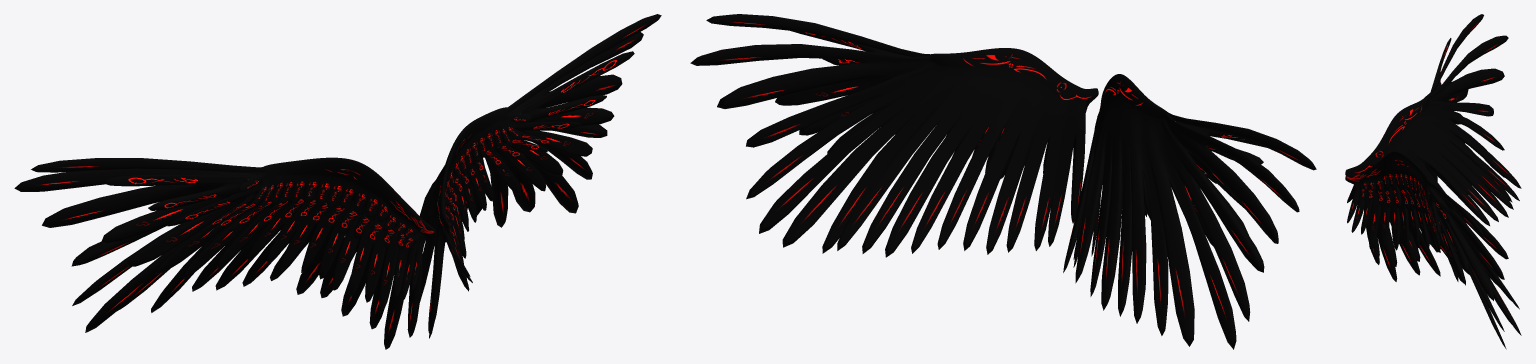
The model's file is wings.glb.
3 renders of one model, left to right at view 1: azimuth 30°, elevation 25°; view 2: azimuth 150°, elevation 25°; view 3: azimuth 270°, elevation 25°, orthographic. The views are drawn at different scales.
Parts seen in each view (by area): view 1: pCube1; view 2: pCube1; view 3: pCube1.
Part boxes in pixels (x1,y1,x2,y2): pCube1: (14, 14, 661, 349); pCube1: (690, 14, 1316, 349); pCube1: (1345, 14, 1521, 349).
Size of the model in its own units: 68.61 by 22.37 by 23.11.
Materials: 1 (1 with a texture image).
